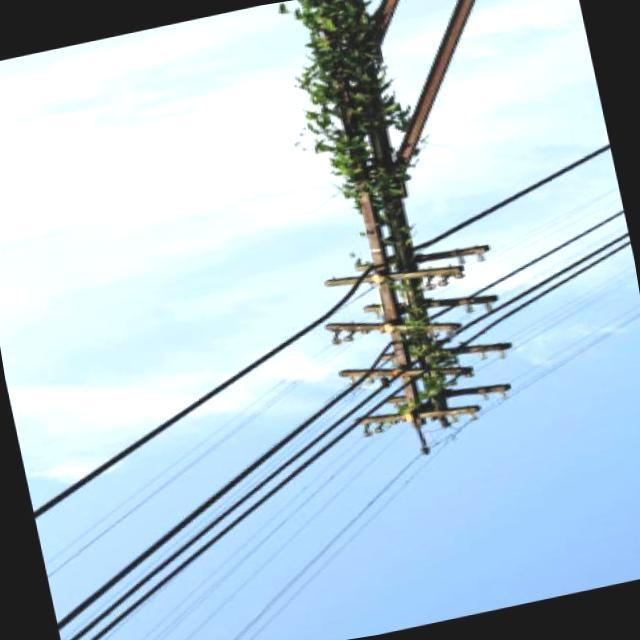critical vegetation: (246, 0, 549, 473)
